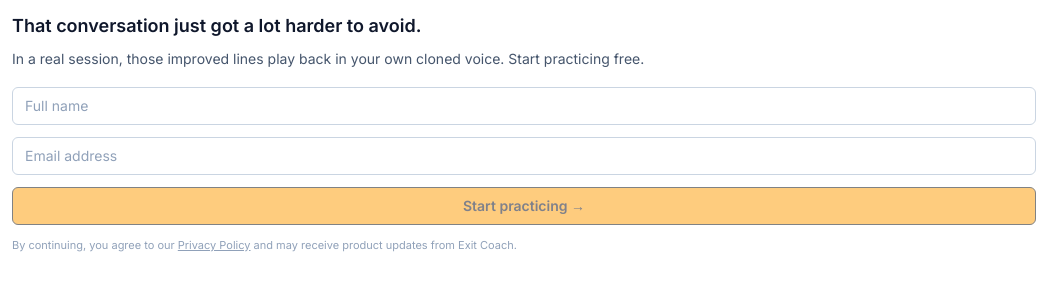
Test: DemoLeadForm › shows an inline error and preserves form values when the request fails
Type "Alice" into the field with placeholder "Full name". click: [524, 106]
box: [12, 87, 1036, 125]
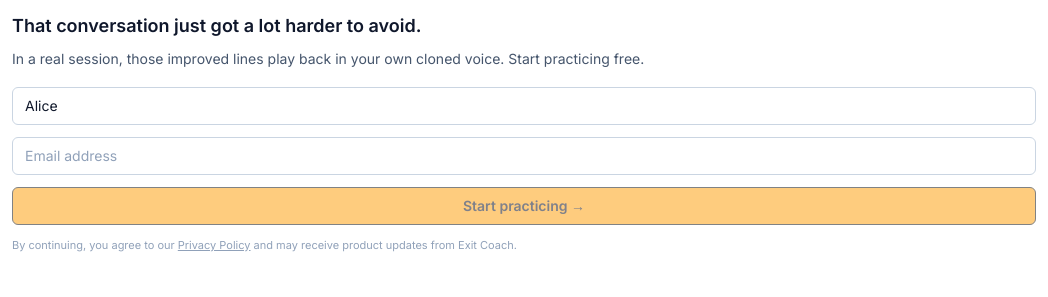
Type "alice@example.com" into the field with placeholder "Email address". click: [524, 156]
box: [12, 137, 1036, 175]
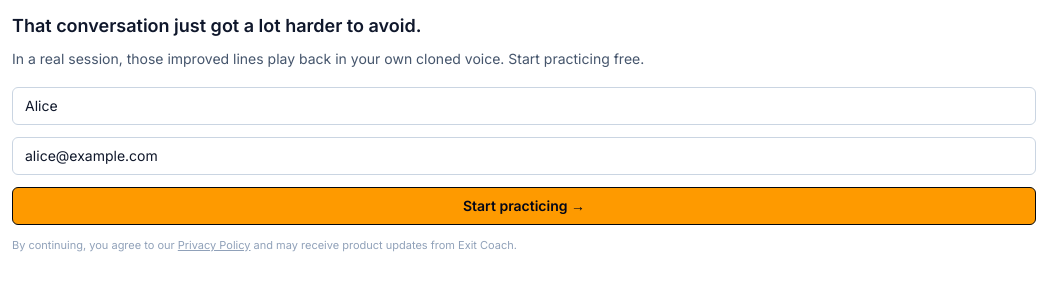
Click the button "Start practicing →". click: [524, 206]
box: [12, 187, 1036, 225]
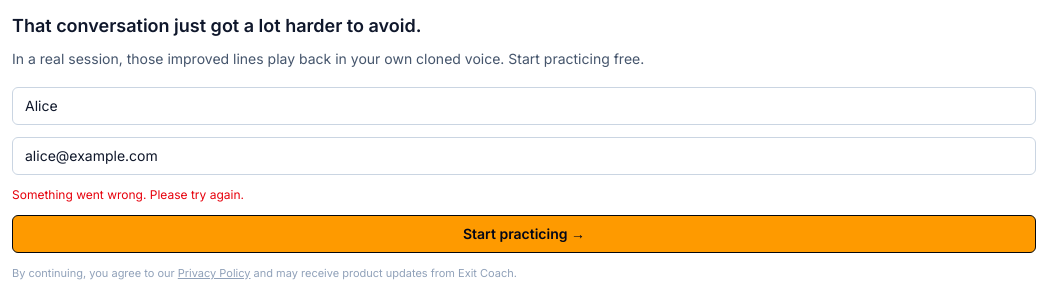
Result: the message with test id "demo-lead-error" shows "Something went wrong" at [12, 187, 244, 202]
